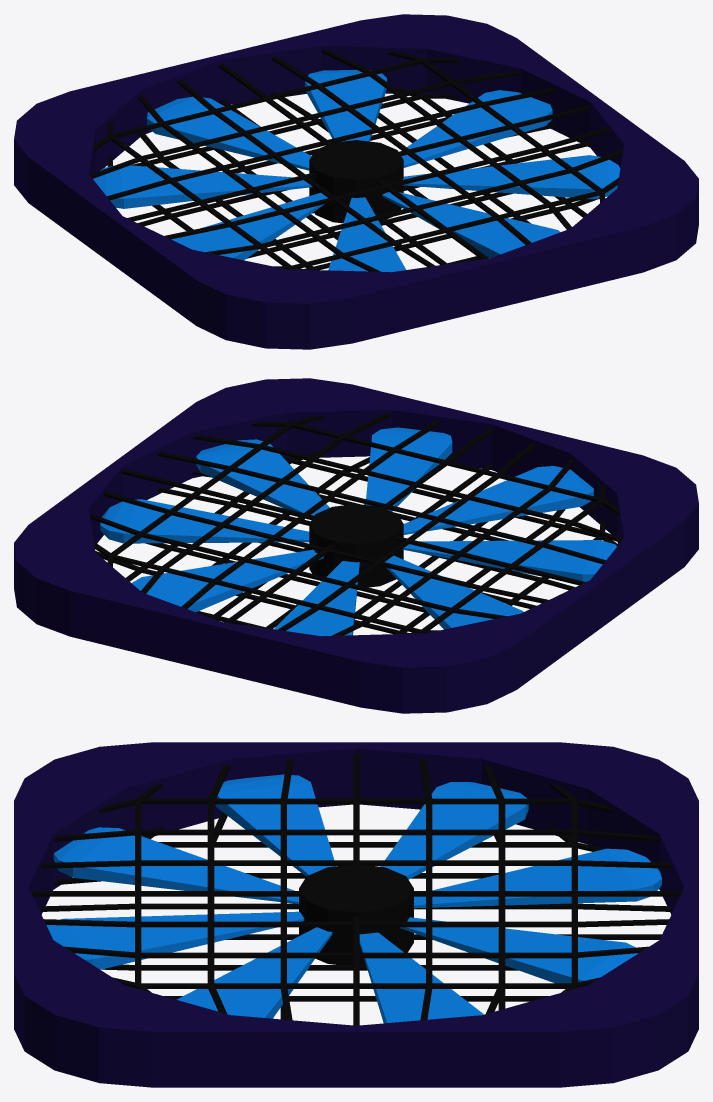
The model's file is fan platform.fbx.
3 renders of one model, top to bottom at view 1: azimuth 30°, elevation 25°; view 2: azimuth 150°, elevation 25°; view 3: azimuth 270°, elevation 25°, orthographic. The views are drawn at different scales.
Visible parts, largest first — view 1: Fan Platform, Fan Platform.001; view 2: Fan Platform, Fan Platform.001; view 3: Fan Platform, Fan Platform.001.
Boxes of the visible parts, box(x1,y1,x2,y2) form: Fan Platform: box(14, 14, 698, 349); Fan Platform.001: box(93, 69, 620, 272); Fan Platform: box(14, 378, 698, 713); Fan Platform.001: box(100, 427, 616, 636); Fan Platform: box(14, 742, 698, 1087); Fan Platform.001: box(46, 774, 661, 1023).
Bounding box in the file's own units: 420 × 37.74 × 420.
